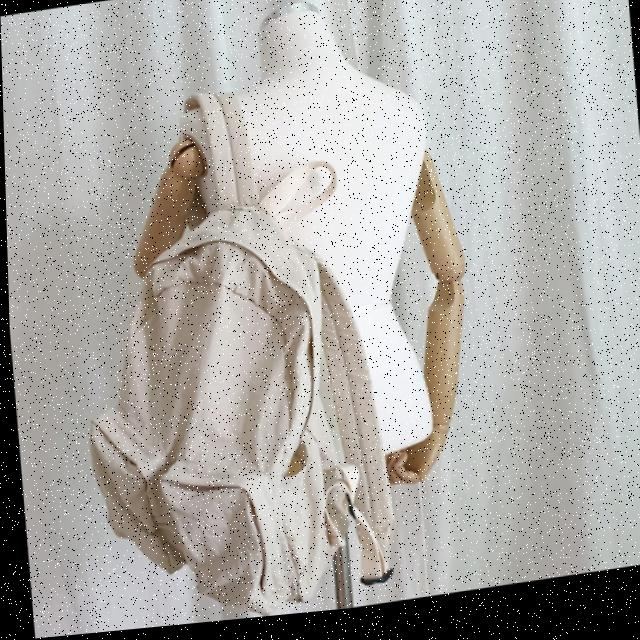backpack: (55, 192, 414, 636)
